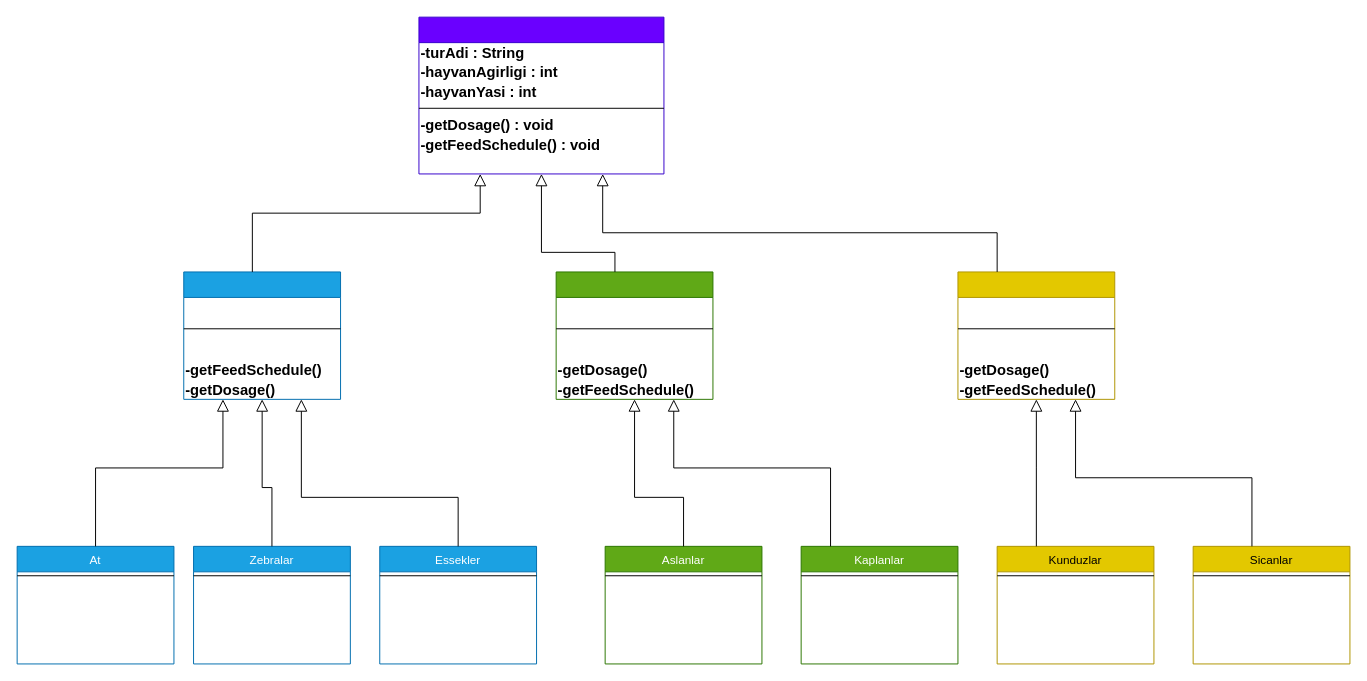
This 1367x681 diagram has some shape labels left out. The box of each missing label's shape, as (x1, y1, x2, y2) in pixels:
Atlar: (183, 271, 341, 399)
Hayvanlar: (418, 16, 664, 174)
Kedigiller: (555, 271, 713, 399)
Kemirgenler: (957, 271, 1115, 399)
